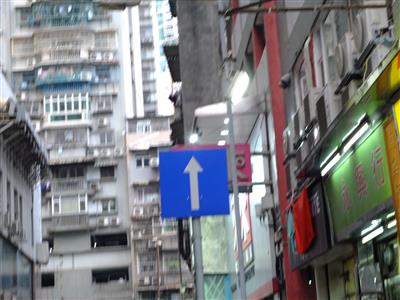oneway: (154, 145, 231, 219)
